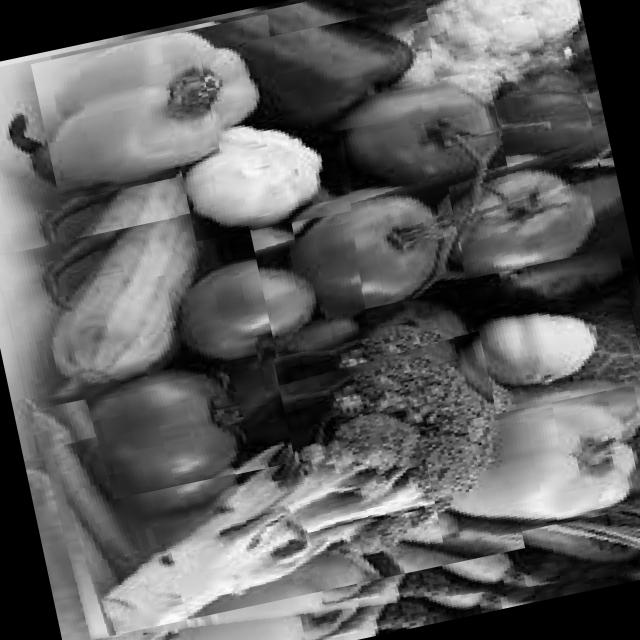Organic: (0, 0, 640, 640), (44, 330, 524, 640), (0, 201, 276, 411), (29, 14, 295, 203), (198, 3, 448, 158), (418, 384, 640, 549), (84, 358, 294, 502), (319, 68, 510, 218), (186, 220, 374, 370), (420, 140, 614, 284), (286, 173, 468, 320), (176, 120, 358, 243)
